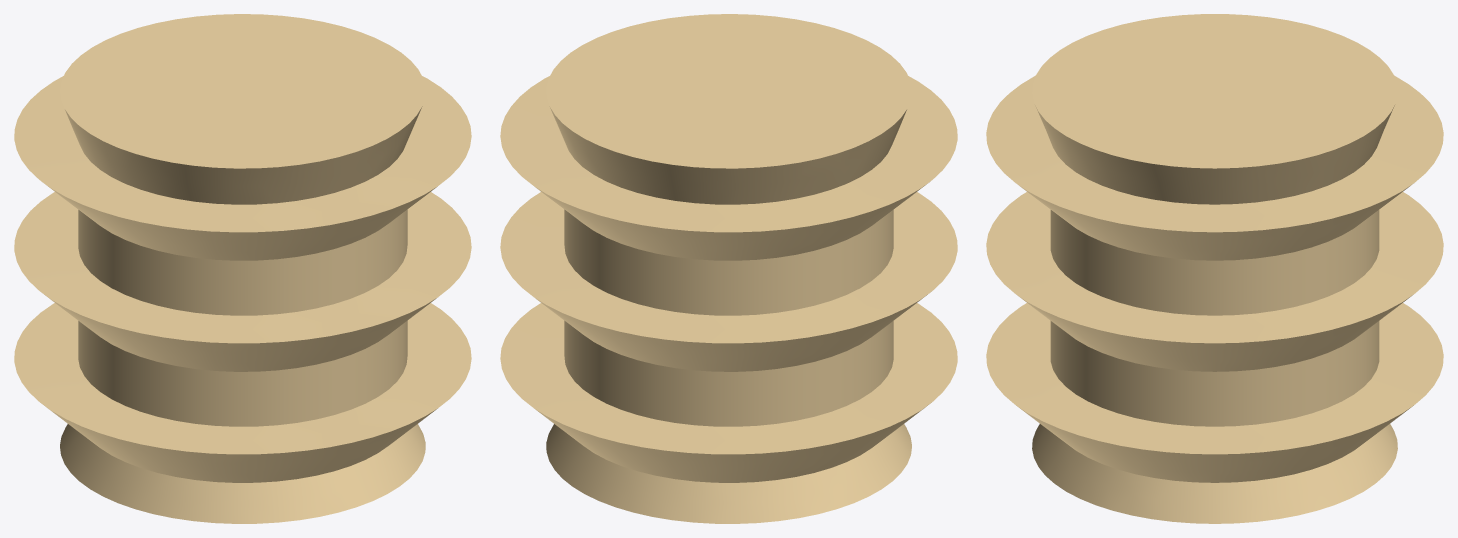
File: air-inlet.glb
3 renders of one model, left to right at view 1: azimuth 30°, elevation 25°; view 2: azimuth 150°, elevation 25°; view 3: azimuth 270°, elevation 25°, orthographic.
Parts seen in each view (by area): view 1: barb; view 2: barb; view 3: barb.
Boxes of the visible parts, left/top/right/bottom form: barb: left=14, top=14, right=471, bottom=523; barb: left=500, top=14, right=957, bottom=523; barb: left=986, top=14, right=1443, bottom=523.
Bounding box in the file's own units: 7 × 6 × 7.
